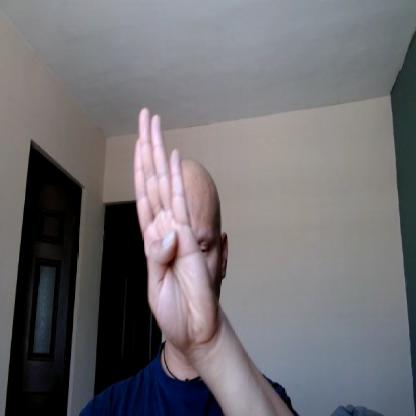B: (133, 106, 217, 343)
